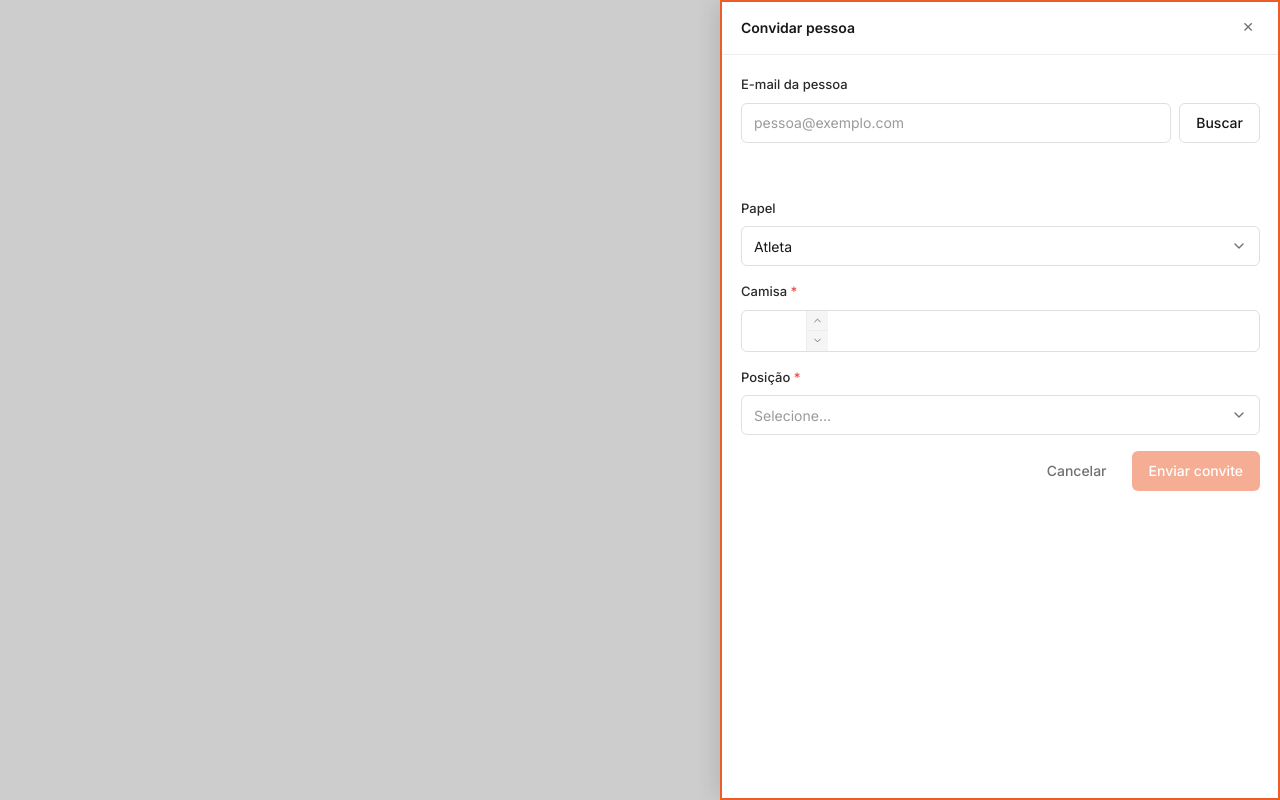
InvitePersonDrawer as a team administrator › hides the jersey field once the coaching staff role is chosen
What coordinates should you click on to do the following:
click the button with aria-label "Papel"
I would click on:
 (773, 246)
Its box is [741,226,1260,266].
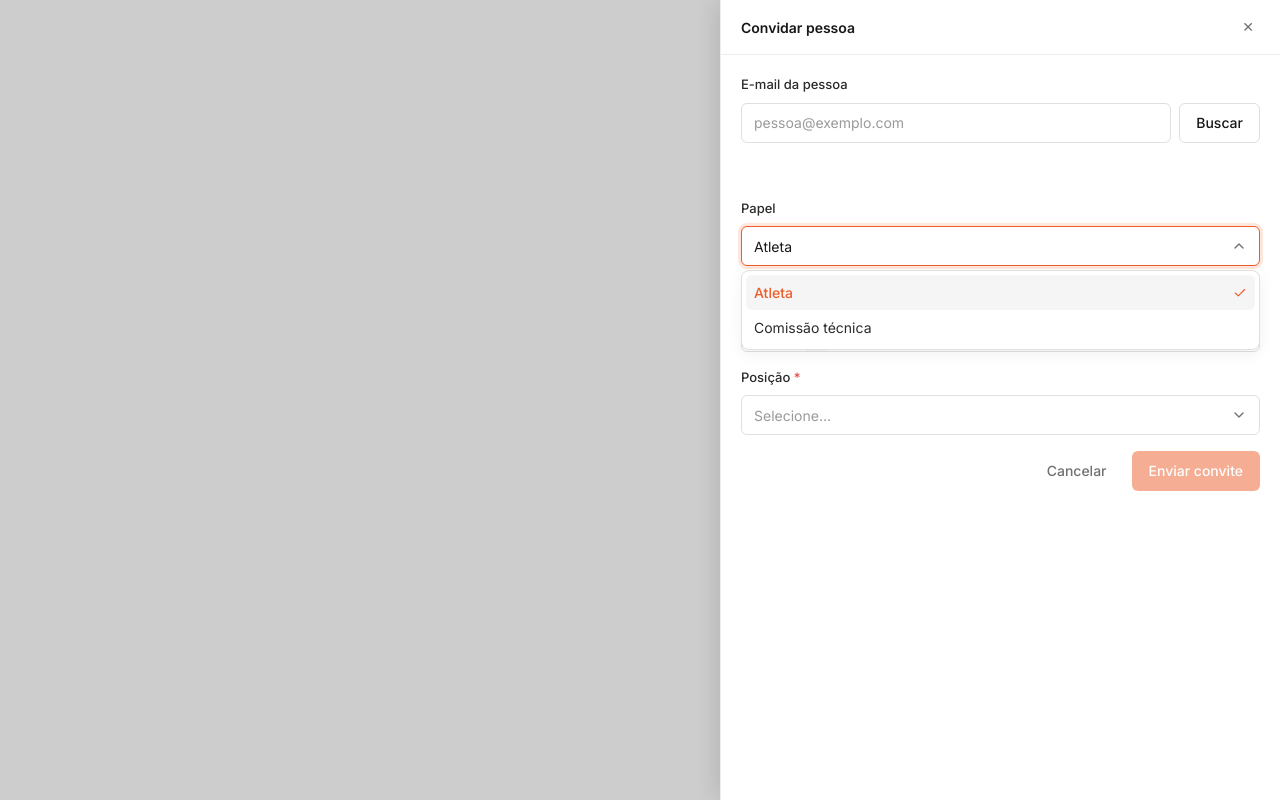
What coordinates should you click on to do the following:
click the option "Comissão técnica"
I would click on:
 (813, 328)
Its box is [754,319,872,336].
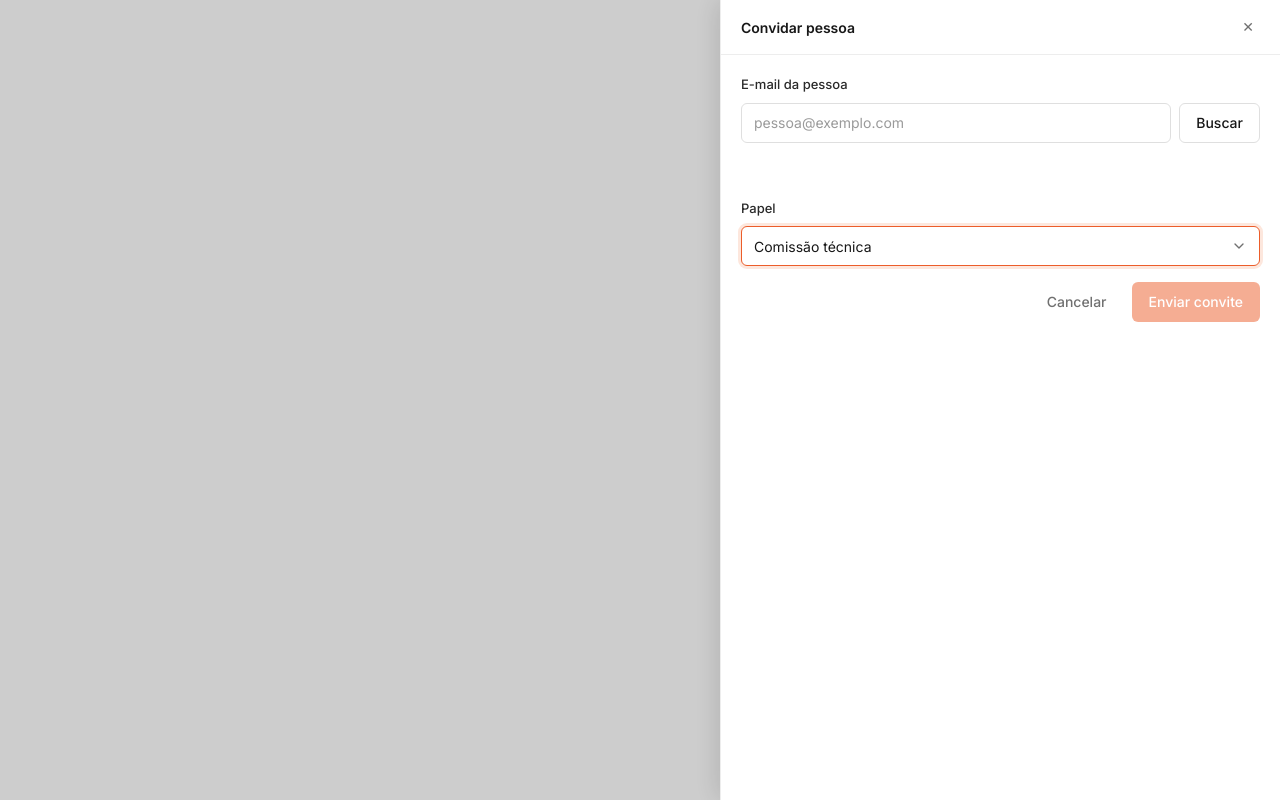
Now the label labelled "Camisa" is gone
